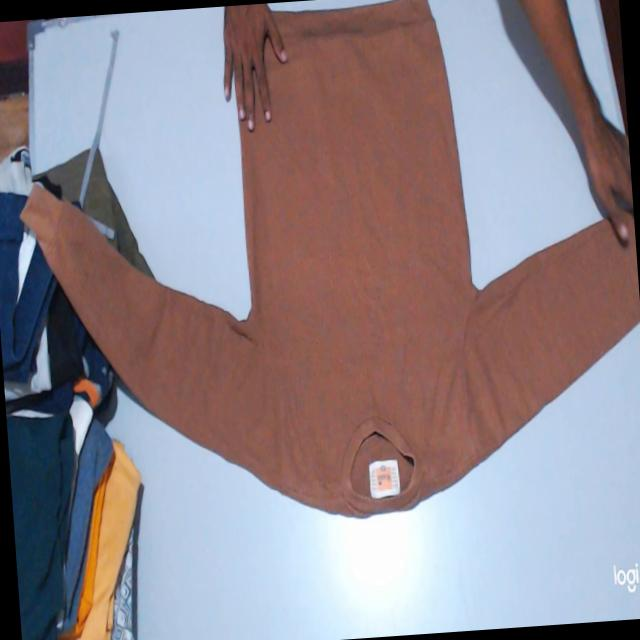new-garment: (25, 0, 640, 515)
